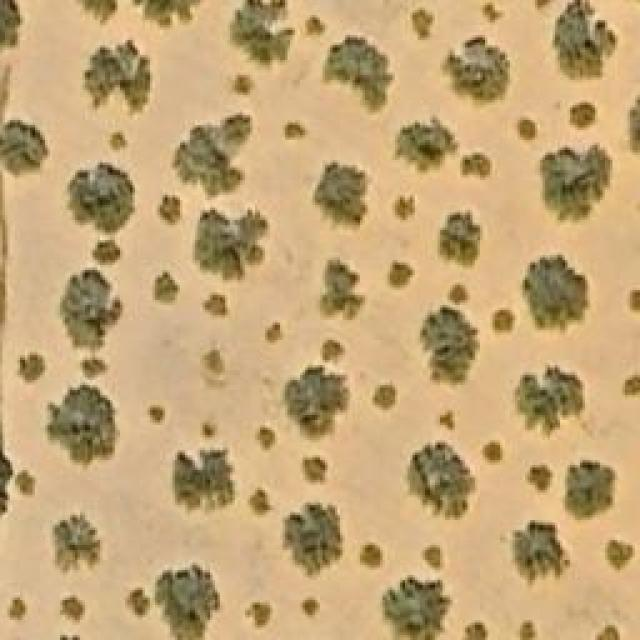Tree: (175, 113, 255, 196), (45, 382, 120, 470), (537, 145, 615, 225), (193, 208, 273, 283), (275, 368, 353, 443), (80, 38, 153, 118), (323, 35, 396, 113), (405, 442, 478, 520), (522, 253, 590, 336), (63, 160, 138, 233), (513, 365, 583, 438), (60, 270, 125, 348), (553, 0, 616, 78), (440, 38, 510, 108), (378, 575, 453, 640), (420, 305, 480, 385), (227, 0, 295, 70), (158, 565, 221, 635), (312, 160, 370, 233), (285, 503, 343, 576), (173, 450, 238, 515), (392, 115, 460, 175), (512, 520, 570, 588), (53, 513, 106, 576), (565, 462, 615, 520), (320, 258, 365, 321), (0, 120, 48, 178), (438, 210, 483, 270), (135, 0, 202, 32), (0, 0, 22, 60), (90, 238, 125, 268), (203, 350, 228, 390), (15, 353, 45, 386), (157, 193, 185, 228), (152, 270, 180, 305), (605, 540, 633, 575), (385, 260, 415, 290), (460, 152, 490, 180), (493, 300, 516, 335), (570, 102, 598, 130), (245, 602, 273, 630), (413, 8, 436, 41), (248, 488, 273, 518), (125, 585, 150, 615), (300, 458, 328, 483), (373, 385, 398, 413), (528, 465, 553, 493), (358, 542, 383, 570), (393, 195, 416, 223), (323, 337, 346, 365), (423, 545, 446, 573), (203, 293, 228, 318), (60, 598, 85, 623), (230, 73, 255, 96), (515, 118, 538, 143), (483, 440, 506, 465), (460, 620, 488, 640), (448, 283, 471, 306), (480, 3, 505, 23), (255, 428, 275, 453), (620, 373, 640, 398), (8, 598, 28, 623), (15, 473, 35, 498), (305, 15, 328, 35), (285, 120, 308, 140), (300, 598, 320, 621), (437, 410, 455, 433), (108, 133, 128, 153), (145, 405, 165, 425), (518, 620, 538, 640), (595, 625, 620, 640), (265, 323, 283, 343)
